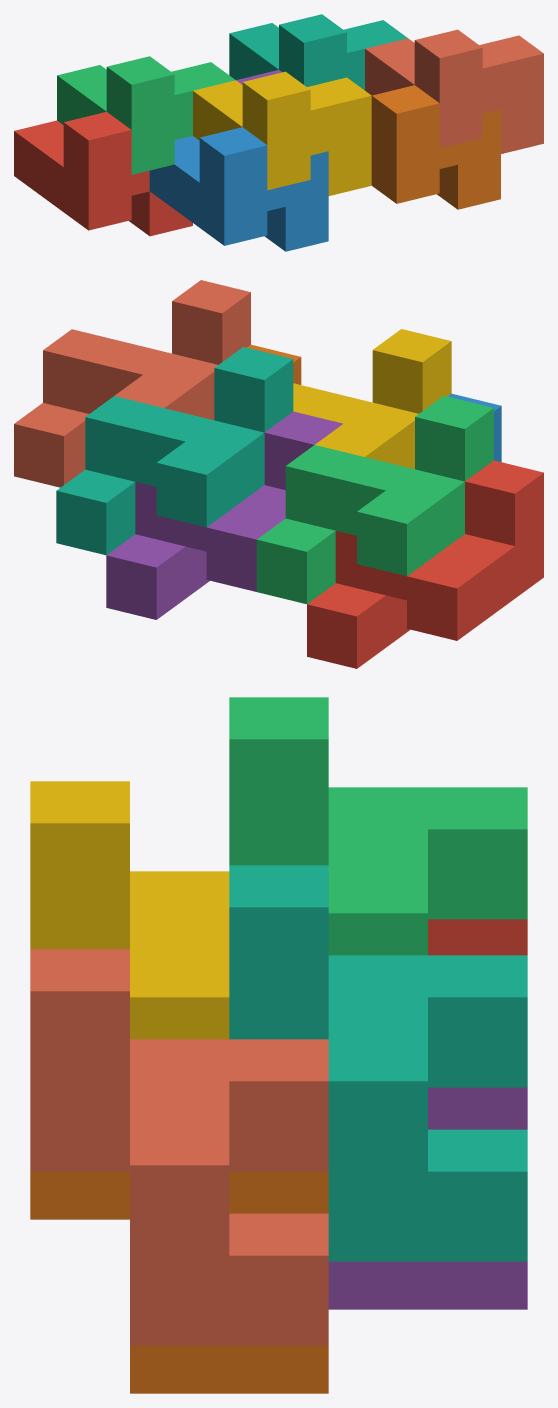
The model's file is tiling.obj.
3 views of the same model, one above another, from view 1: azimuth 30°, elevation 25°; view 2: azimuth 150°, elevation 25°; view 3: azimuth 270°, elevation 25° (orthographic). The views are drawn at different scales.
Visible parts, largest first — view 1: copy_1_domain_4, copy_1_domain_2, copy_1_domain_8, copy_1_domain_1, copy_1_domain_6, copy_1_domain_3, copy_1_domain_7; view 2: copy_1_domain_7, copy_1_domain_3, copy_1_domain_1, copy_1_domain_8, copy_1_domain_5, copy_1_domain_4, copy_1_domain_2, copy_1_domain_6; view 3: copy_1_domain_8, copy_1_domain_7, copy_1_domain_3, copy_1_domain_4, copy_1_domain_6, copy_1_domain_5, copy_1_domain_1.
Boxes of the visible parts, x1,y1,x2,y2 form: copy_1_domain_4: (193, 71, 371, 195); copy_1_domain_2: (149, 127, 328, 251); copy_1_domain_8: (365, 29, 543, 153); copy_1_domain_1: (14, 112, 192, 236); copy_1_domain_6: (371, 85, 500, 209); copy_1_domain_3: (57, 56, 235, 174); copy_1_domain_7: (229, 14, 407, 90); copy_1_domain_7: (56, 347, 293, 555); copy_1_domain_3: (256, 396, 493, 604); copy_1_domain_1: (307, 460, 543, 668); copy_1_domain_8: (14, 280, 250, 487); copy_1_domain_5: (106, 411, 342, 619); copy_1_domain_4: (293, 329, 451, 469); copy_1_domain_2: (448, 393, 501, 461); copy_1_domain_6: (247, 344, 301, 384); copy_1_domain_8: (30, 949, 328, 1345); copy_1_domain_7: (229, 865, 527, 1261); copy_1_domain_3: (229, 697, 527, 955); copy_1_domain_4: (30, 781, 229, 1039); copy_1_domain_6: (30, 1171, 328, 1393); copy_1_domain_5: (328, 1087, 527, 1309); copy_1_domain_1: (428, 919, 527, 955).
Size of the model in its own units: 10 by 4 by 5.
